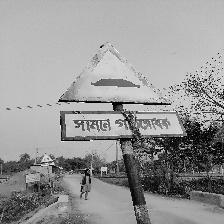Speed-breaker: (57, 42, 183, 141)
